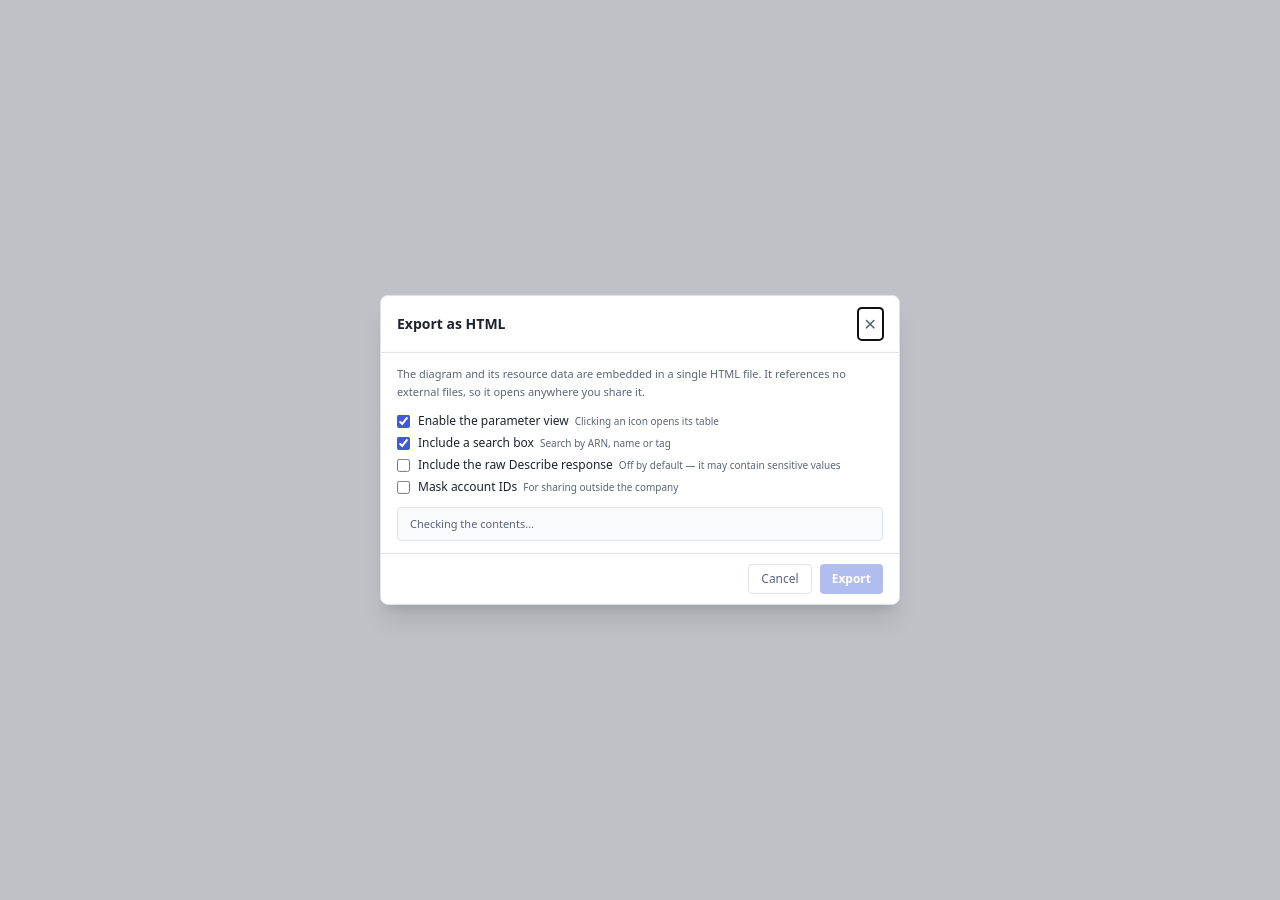
Test: the HTML export dialog › ignores an older summary after an option changes
Click the checkbox labelled "raw Describe response".
click(404, 465)  # box x1=397 y1=459 x2=410 y2=472
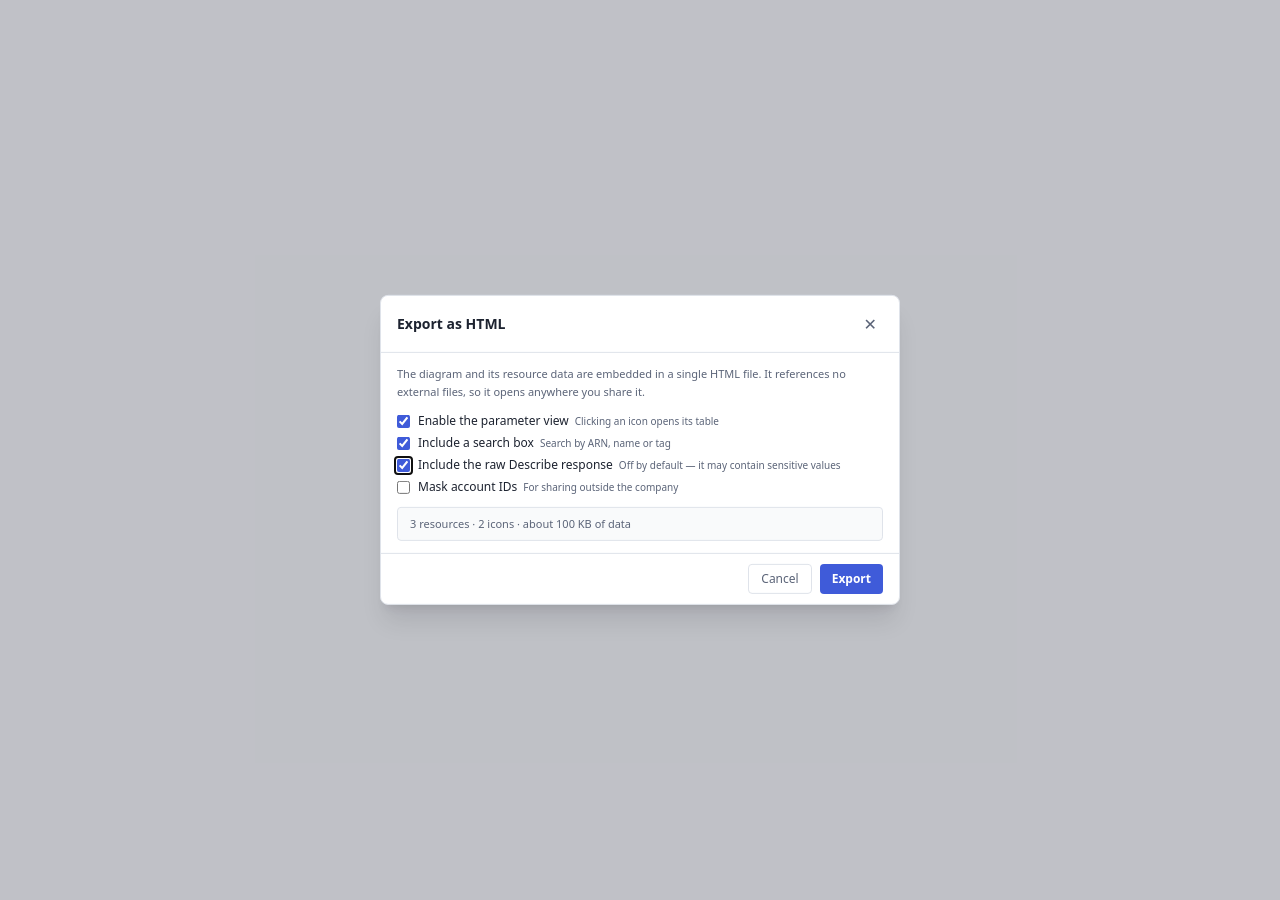
Result: the text "3 resources · 2 icons · about 100 KB of data" is shown at x1=410 y1=516 x2=631 y2=531
